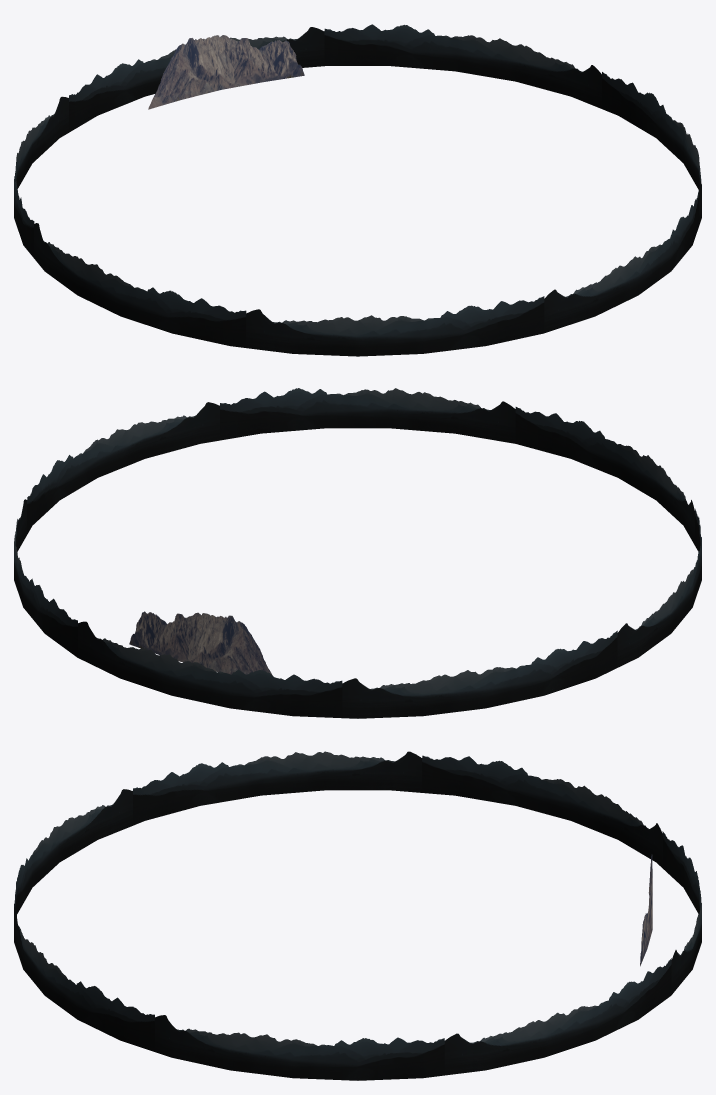
The model's file is D_ENV_Panorama_001.fbx.
3 views of the same model, one above another, from view 1: azimuth 30°, elevation 25°; view 2: azimuth 150°, elevation 25°; view 3: azimuth 270°, elevation 25° (orthographic).
Parts seen in each view (by area): view 1: D_ENV_Panorama_001; view 2: D_ENV_Panorama_001; view 3: D_ENV_Panorama_001.
Part boxes in pixels (x1,y1,x2,y2): D_ENV_Panorama_001: (14,24,701,356); D_ENV_Panorama_001: (14,388,701,718); D_ENV_Panorama_001: (14,751,701,1080).
Bounding box in the file's own units: 203 × 23.34 × 203.
